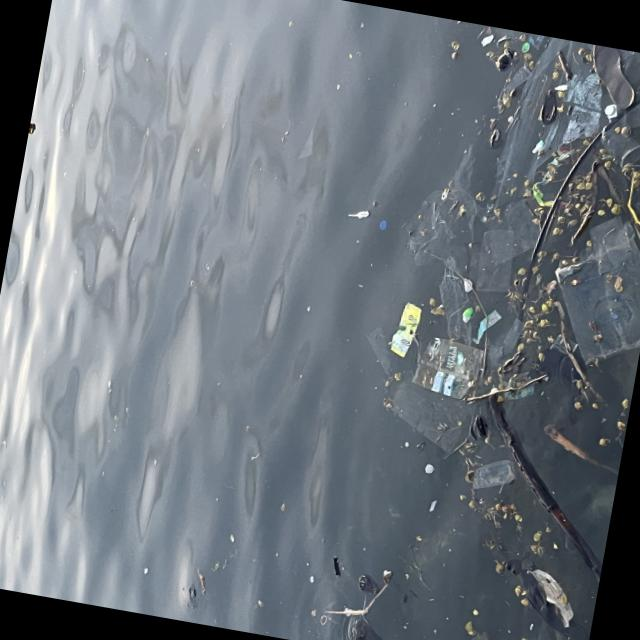foam: (554, 83, 569, 92)
plastic bag: (415, 338, 486, 395), (388, 301, 422, 359)
